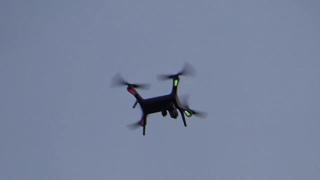UAV: (112, 62, 208, 136)
